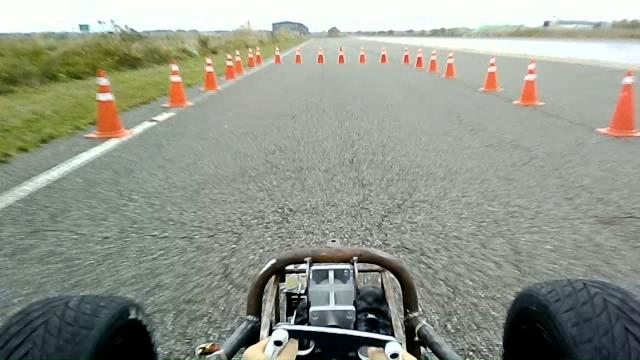red cone: (83, 68, 131, 138), (595, 69, 639, 137), (512, 57, 546, 106), (160, 59, 193, 108), (479, 55, 504, 93), (200, 56, 222, 92), (442, 50, 456, 79), (224, 52, 236, 80), (234, 49, 245, 74), (427, 49, 438, 74), (415, 48, 424, 68), (401, 46, 410, 64), (247, 47, 255, 67), (316, 47, 325, 64), (337, 45, 345, 64), (358, 46, 366, 64), (274, 46, 282, 64), (255, 46, 263, 64), (380, 47, 388, 64), (294, 47, 302, 64)
